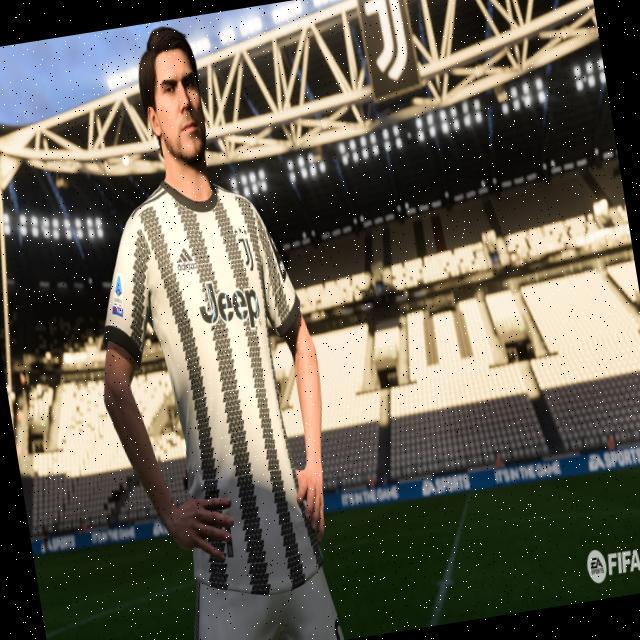Adidas: (173, 241, 201, 277)
